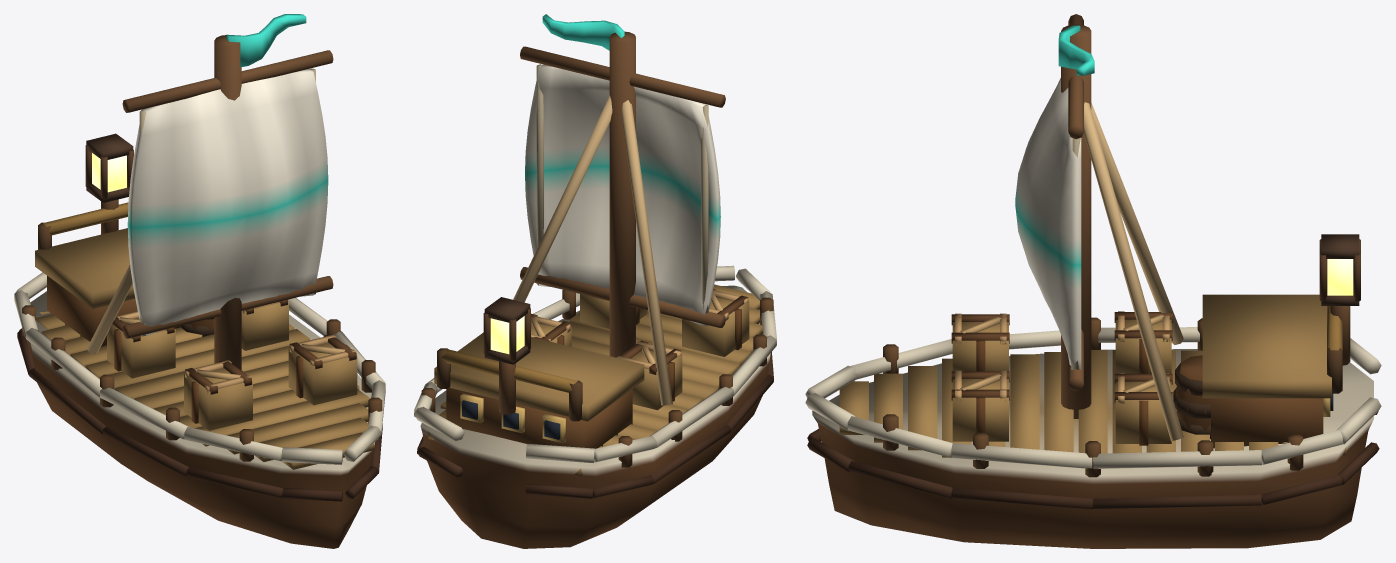
The model's file is barco-jugador.glb.
3 renders of one model, left to right at view 1: azimuth 30°, elevation 25°; view 2: azimuth 150°, elevation 25°; view 3: azimuth 270°, elevation 25°, orthographic. The views are drawn at different scales.
Visible parts, largest first — view 1: Hull, Sail, Cargo, Mast, Lantern, Flag; view 2: Hull, Sail, Mast, Cargo, Lantern, Flag; view 3: Hull, Cargo, Sail, Mast, Lantern, Flag.
Boxes of the visible parts, x1,y1,x2,y2 form: Hull: (14,199,385,548); Sail: (122,50,333,338); Cargo: (107,299,357,430); Mast: (87,35,241,369); Lantern: (85,133,133,202); Flag: (226,14,306,67); Hull: (414,265,776,548); Sail: (520,46,725,327); Mast: (513,31,672,405); Cargo: (531,288,749,410); Lantern: (483,297,530,364); Flag: (542,14,624,50); Hull: (805,294,1381,548); Cargo: (951,311,1210,445); Sail: (1015,14,1083,391); Mast: (1061,24,1183,440); Lantern: (1319,234,1360,305); Flag: (1058,25,1094,75).
Bounding box in the file's own units: 0.5425 × 0.9262 × 1.
